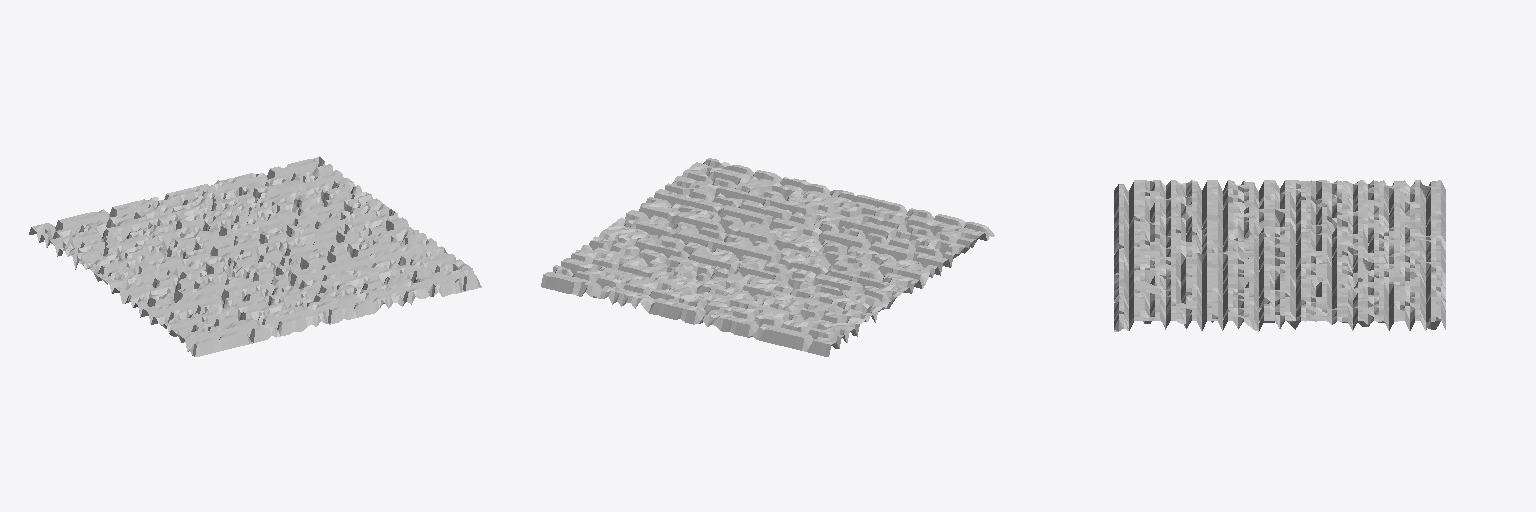
Rendered from brickwall.obj.
The picture shows the model from 3 angles: view 1: azimuth 30°, elevation 25°; view 2: azimuth 150°, elevation 25°; view 3: azimuth 270°, elevation 25°; orthographic projection.
Visible parts, largest first — view 1: Plane; view 2: Plane; view 3: Plane.
Part boxes in pixels (bbox=[...]): Plane: bbox=[29, 156, 481, 356]; Plane: bbox=[541, 158, 994, 356]; Plane: bbox=[1114, 180, 1445, 331].
Size of the model in its own units: 2 by 0.0726 by 2.